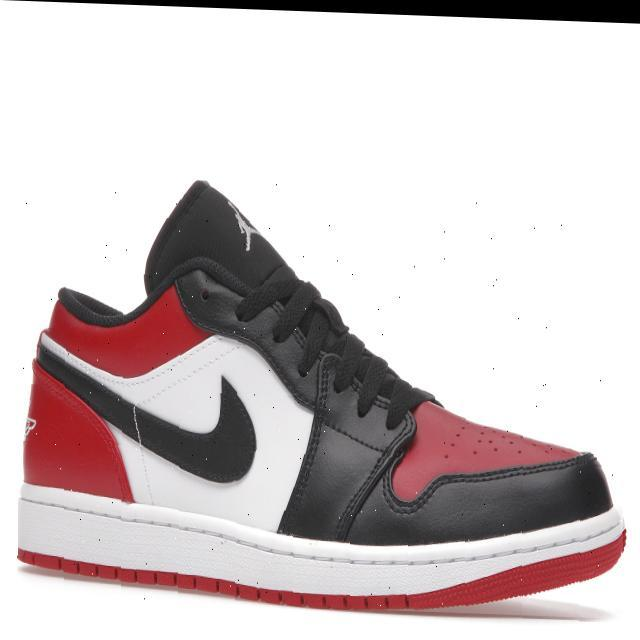J1_InsoleChar: (15, 178, 627, 614)
J1_StitchPattern: (15, 488, 627, 612), (172, 253, 419, 428), (278, 297, 431, 540), (34, 328, 258, 485), (16, 547, 414, 612), (286, 300, 416, 427), (381, 449, 597, 516), (275, 350, 340, 537), (331, 408, 418, 541), (310, 341, 402, 420), (351, 353, 395, 416), (225, 200, 260, 254)
